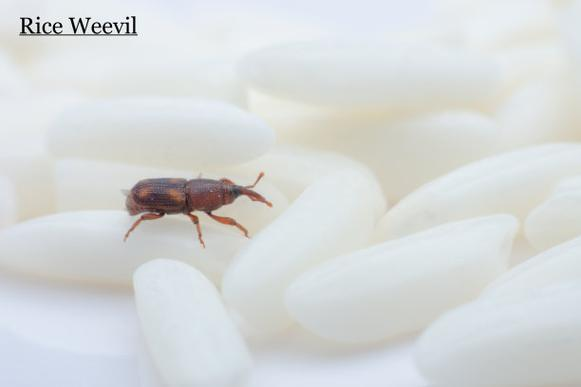Curculionidae: (120, 170, 273, 249)
